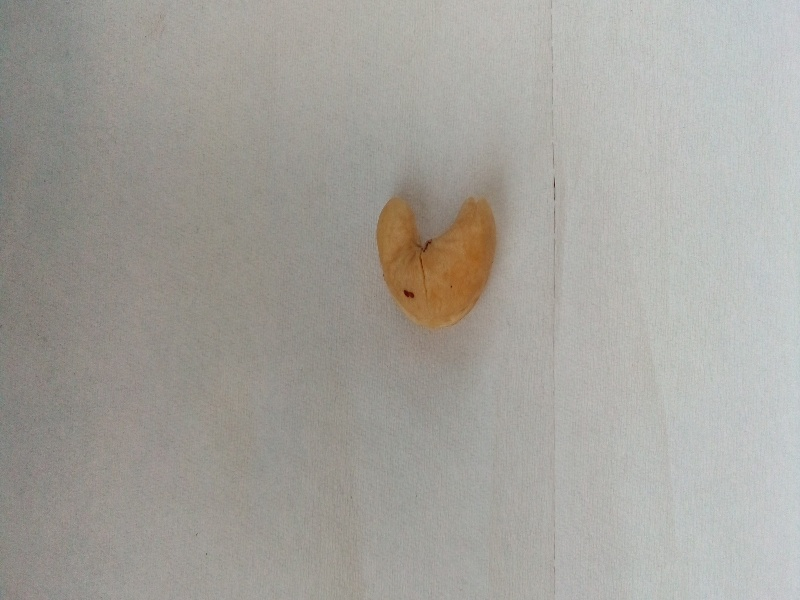cashew: (354, 176, 517, 339)
